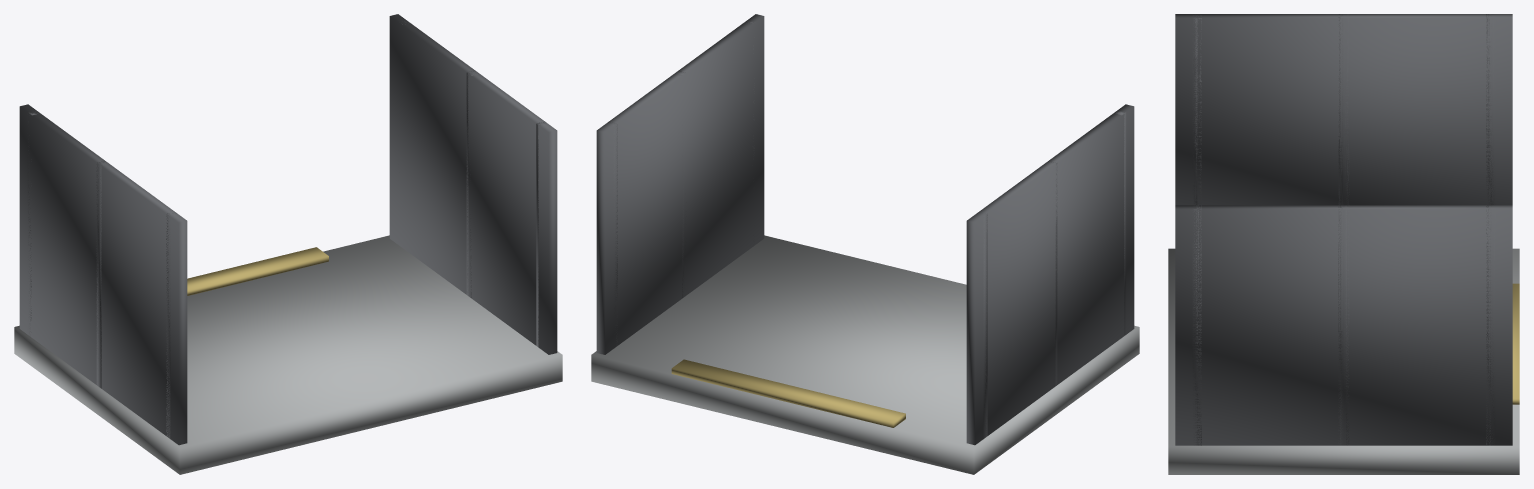
File: floor_w180_d135_sides.glb
The picture shows the model from 3 angles, left to right: view 1: azimuth 30°, elevation 25°; view 2: azimuth 150°, elevation 25°; view 3: azimuth 270°, elevation 25°; orthographic projection. The views are drawn at different scales.
Parts seen in each view (by area): view 1: world; view 2: world; view 3: world.
Part boxes in pixels (x1=…): world: x1=14, y1=14, x2=562, y2=474; world: x1=591, y1=14, x2=1139, y2=474; world: x1=1168, y1=14, x2=1519, y2=474.
Size of the model in its own units: 1.8 by 1.12 by 1.35.
